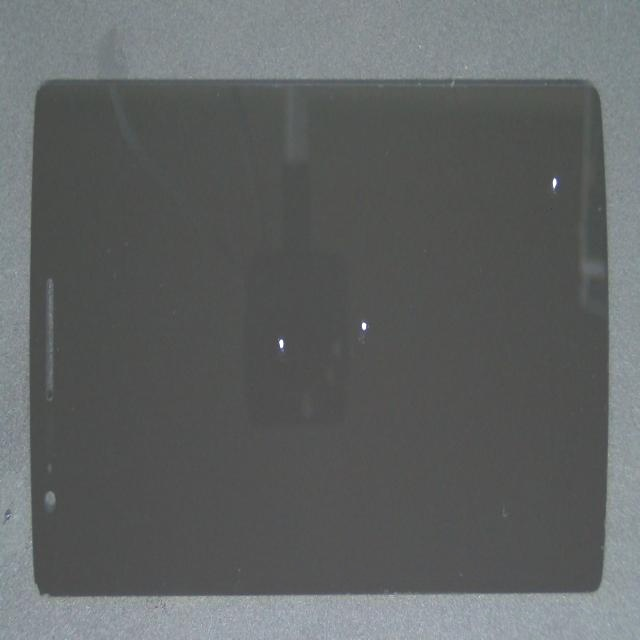stain: (169, 198, 508, 594), (130, 120, 405, 517), (261, 54, 640, 271)
